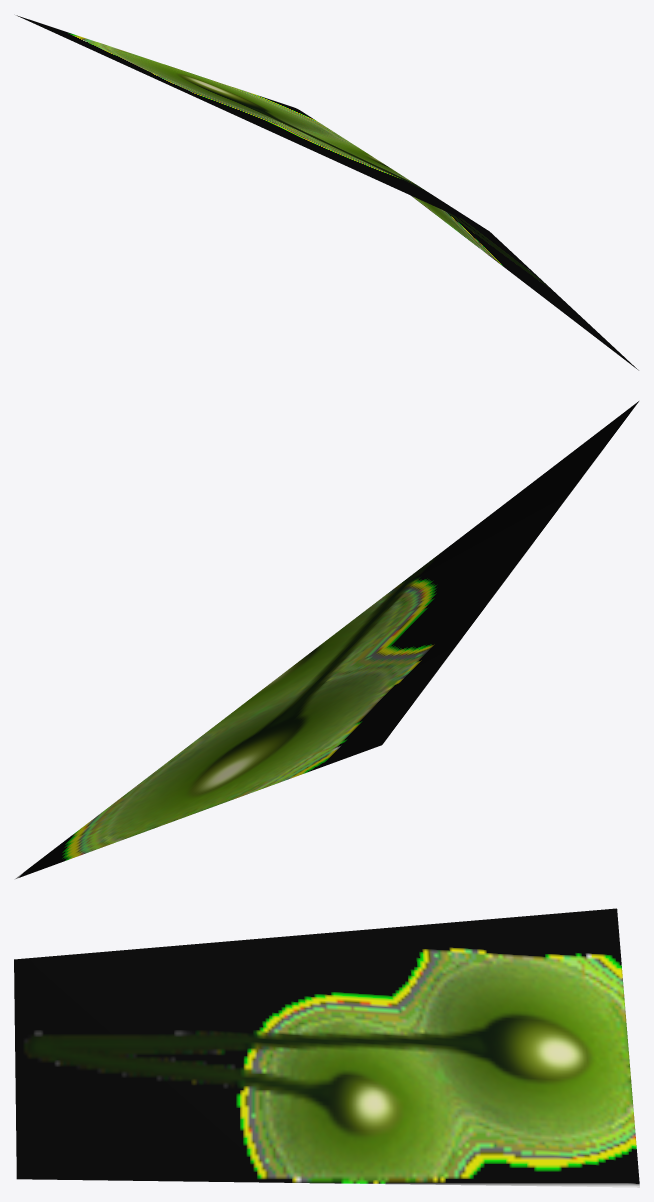
File: MEP_Lumie_01.fbx
The picture shows the model from 3 angles, top to bottom: view 1: azimuth 30°, elevation 25°; view 2: azimuth 150°, elevation 25°; view 3: azimuth 270°, elevation 25°; orthographic projection. The views are drawn at different scales.
Parts seen in each view (by area): view 1: MEP_Lumie_01; view 2: MEP_Lumie_01; view 3: MEP_Lumie_01.
Part boxes in pixels (<box>): MEP_Lumie_01: <box>16,15,638,370</box>; MEP_Lumie_01: <box>14,401,638,879</box>; MEP_Lumie_01: <box>14,908,639,1187</box>.
Bounding box in the file's own units: 0.551 × 0.3208 × 1.16.
